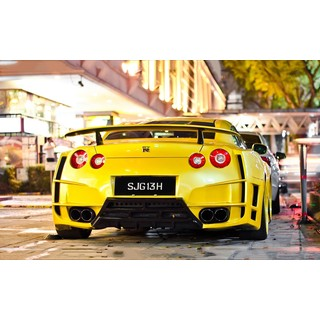car: (54, 118, 273, 237)
